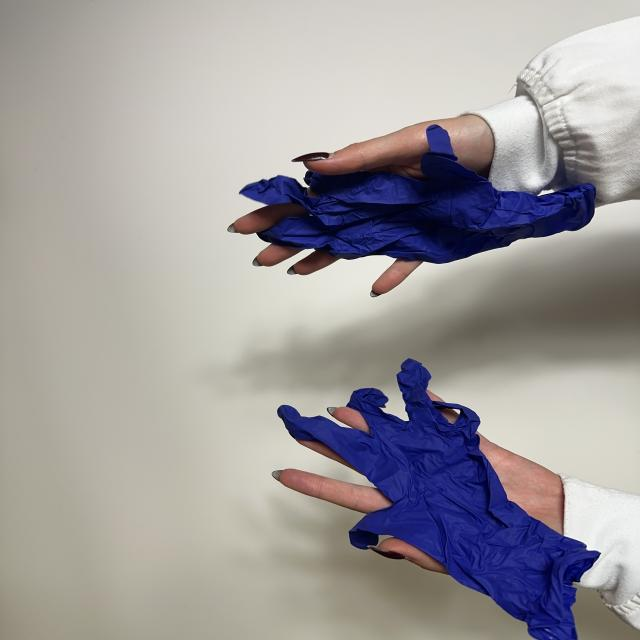glove_not_fitted: (272, 360, 600, 640), (228, 116, 594, 296)
